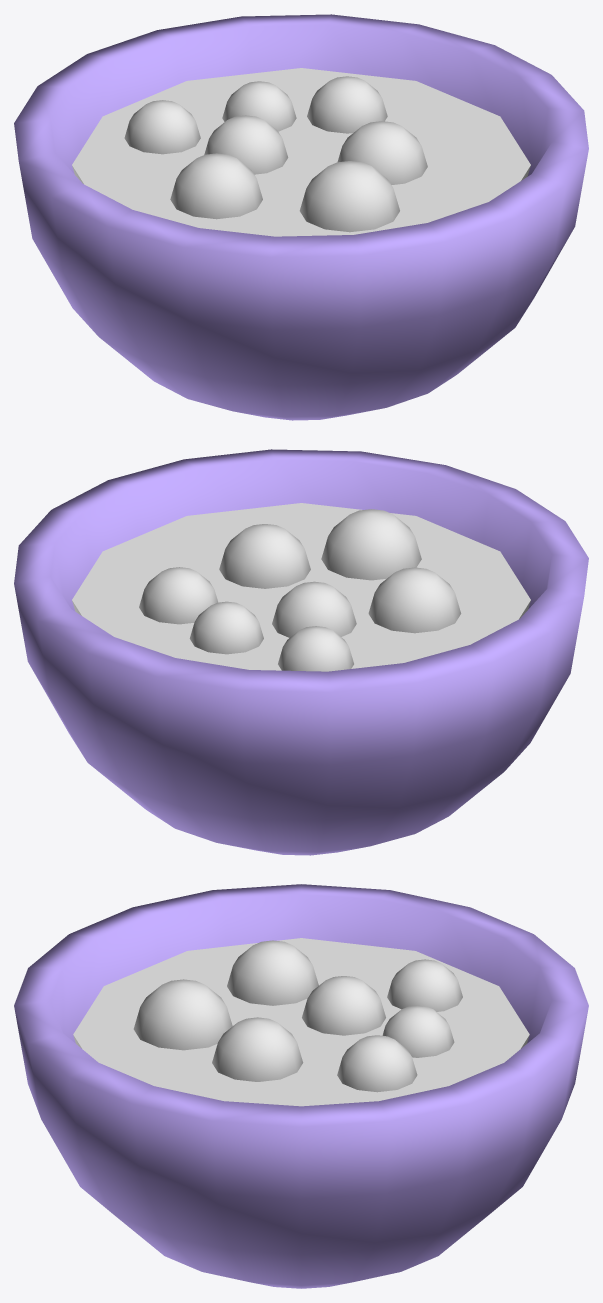
The model's file is tangyuan.fbx.
The picture shows the model from 3 angles, top to bottom: view 1: azimuth 30°, elevation 25°; view 2: azimuth 150°, elevation 25°; view 3: azimuth 270°, elevation 25°; orthographic projection.
Visible parts, largest first — view 1: Sphere028, Sphere030, Sphere032, Sphere034, Sphere036, Sphere031, Sphere033, Sphere037, Sphere035; view 2: Sphere028, Sphere030, Sphere032, Sphere034, Sphere036, Sphere033, Sphere031, Sphere035, Sphere037; view 3: Sphere028, Sphere030, Sphere032, Sphere034, Sphere036, Sphere033, Sphere031, Sphere037, Sphere035.
Boxes of the visible parts, x1,y1,x2,y2 form: Sphere028: [14, 14, 588, 420]; Sphere030: [72, 68, 530, 236]; Sphere032: [299, 161, 399, 232]; Sphere034: [170, 153, 262, 219]; Sphere036: [337, 121, 427, 184]; Sphere031: [307, 76, 387, 133]; Sphere033: [204, 115, 288, 174]; Sphere037: [124, 100, 200, 154]; Sphere035: [222, 81, 296, 131]; Sphere028: [14, 449, 588, 855]; Sphere030: [72, 503, 530, 670]; Sphere032: [321, 509, 421, 580]; Sphere034: [368, 567, 461, 633]; Sphere036: [219, 524, 310, 588]; Sphere033: [272, 581, 356, 637]; Sphere031: [139, 567, 218, 624]; Sphere035: [189, 601, 263, 654]; Sphere037: [278, 626, 353, 671]; Sphere028: [14, 884, 588, 1288]; Sphere030: [73, 938, 529, 1106]; Sphere032: [133, 979, 232, 1050]; Sphere034: [227, 940, 318, 1005]; Sphere036: [212, 1017, 303, 1081]; Sphere033: [302, 976, 385, 1035]; Sphere031: [337, 1035, 417, 1092]; Sphere037: [387, 959, 462, 1011]; Sphere035: [382, 1005, 454, 1057].
Bounding box in the file's own units: 7.1 × 3.74 × 7.1.
